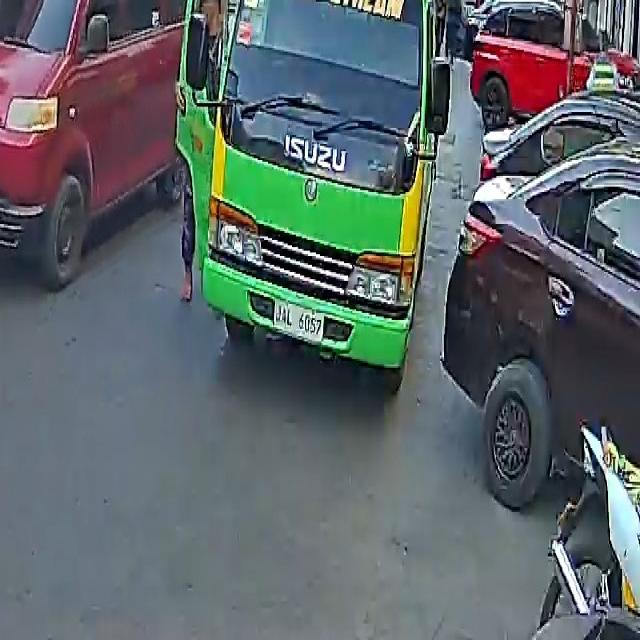car: (446, 102, 640, 514), (0, 0, 207, 286), (470, 0, 625, 128)
